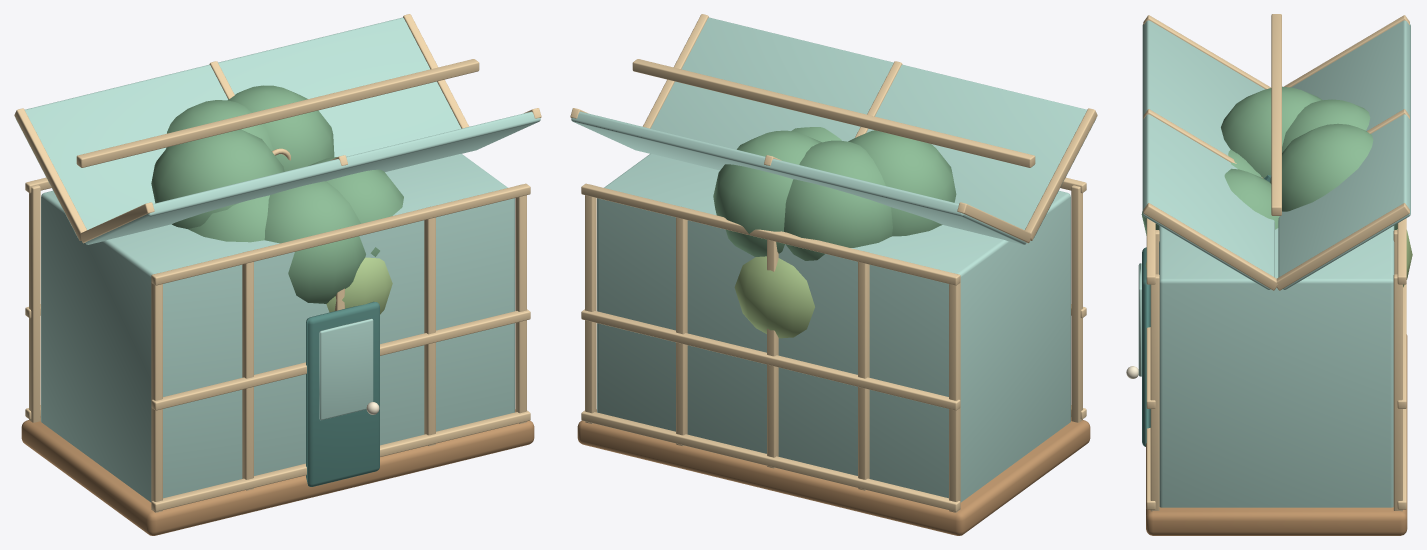
The model's file is garden-kit.glb.
3 views of the same model, side by side, from view 1: azimuth 30°, elevation 25°; view 2: azimuth 150°, elevation 25°; view 3: azimuth 270°, elevation 25° (orthographic).
Visible parts, largest first — view 1: greenhouse_Greenhouse glass, greenhouse_Birch trim, tree_Sage foliage, greenhouse_Honey oak, greenhouse_Garden enamel, tree_Sunlit foliage; view 2: greenhouse_Greenhouse glass, greenhouse_Birch trim, tree_Sage foliage, greenhouse_Honey oak, tree_Sunlit foliage; view 3: greenhouse_Greenhouse glass, greenhouse_Birch trim, tree_Sage foliage, greenhouse_Honey oak, greenhouse_Garden enamel.
Part boxes in pixels (x1,y1,x2,y2): greenhouse_Greenhouse glass: (15, 17, 540, 502); greenhouse_Birch trim: (14, 14, 541, 512); tree_Sage foliage: (151, 85, 403, 303); greenhouse_Honey oak: (21, 409, 534, 535); greenhouse_Garden enamel: (306, 301, 379, 486); tree_Sunlit foliage: (326, 257, 392, 314); greenhouse_Greenhouse glass: (571, 17, 1096, 502); greenhouse_Birch trim: (570, 14, 1097, 512); tree_Sage foliage: (713, 127, 956, 260); greenhouse_Honey oak: (577, 409, 1090, 535); tree_Sunlit foliage: (734, 256, 814, 338); greenhouse_Greenhouse glass: (1138, 20, 1410, 507); greenhouse_Birch trim: (1143, 14, 1409, 511); tree_Sage foliage: (1141, 86, 1397, 235); greenhouse_Honey oak: (1146, 334, 1407, 535); greenhouse_Garden enamel: (1142, 247, 1150, 446).
Size of the model in its own units: 3.5 by 2.87 by 2.19.
